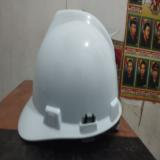Helmet: (18, 10, 122, 141)
